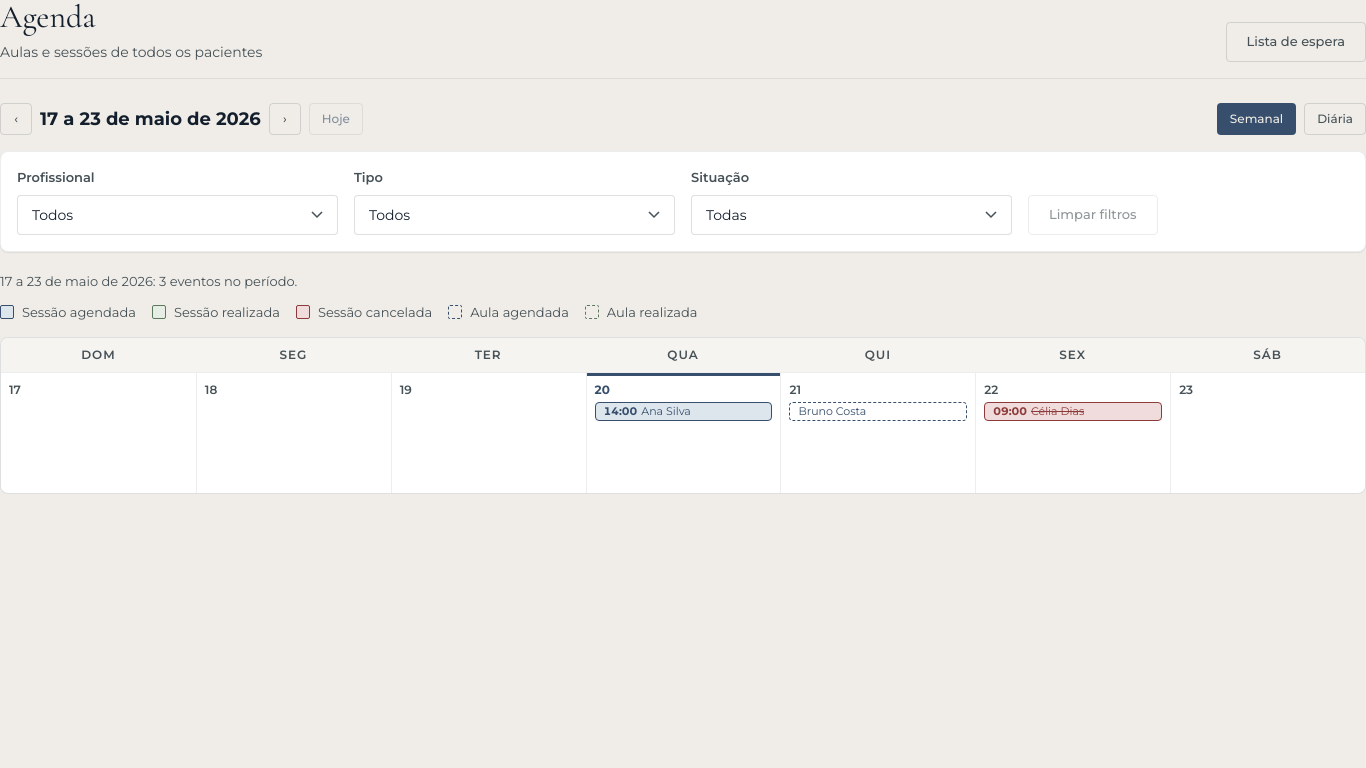
Test: AgendaComponent › detalhe e ações rápidas › aviso da lista de espera › should name the interested patients in the confirmation
The image size is (1366, 768).
Click the button with class "evento" showing "14:00 Ana Silva": (684,412) [595,402,772,421]
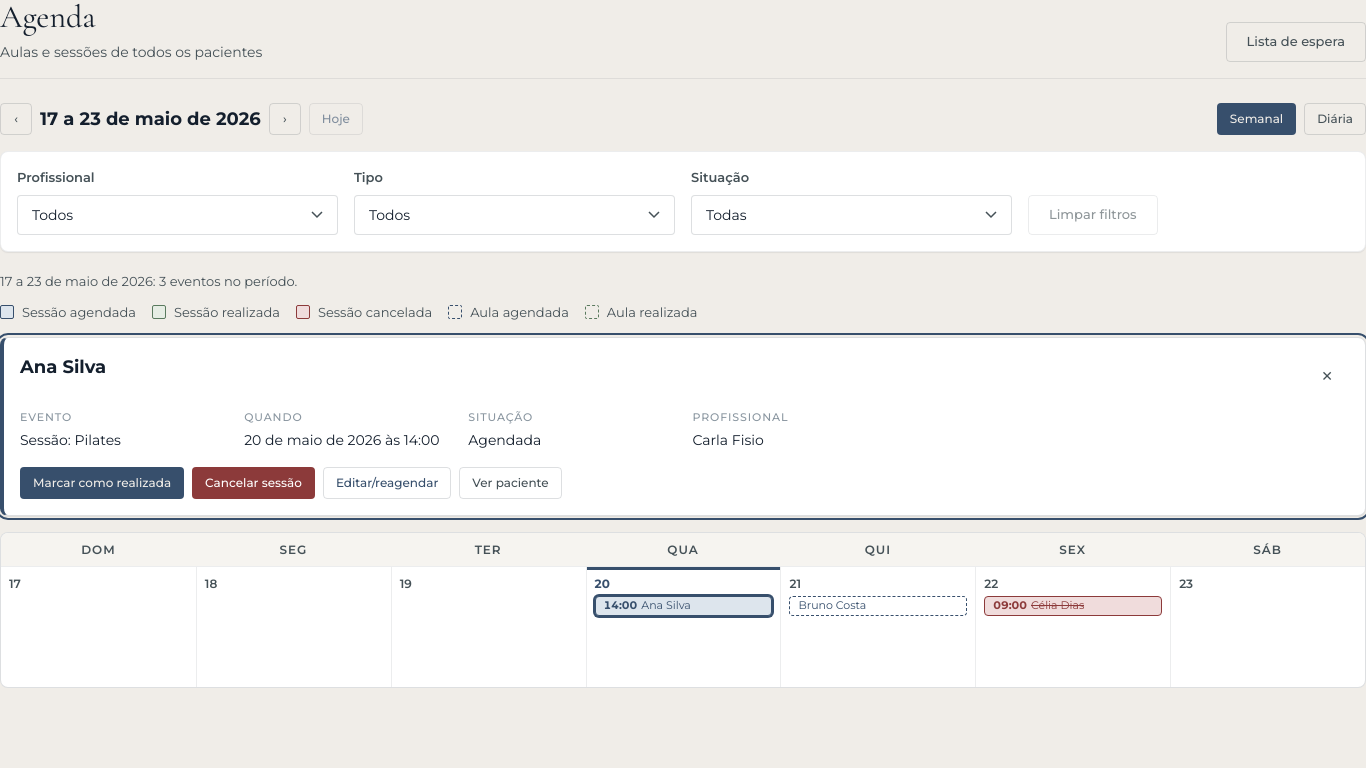
Click the button with class "btn-danger": (254,483) [192,467,315,499]
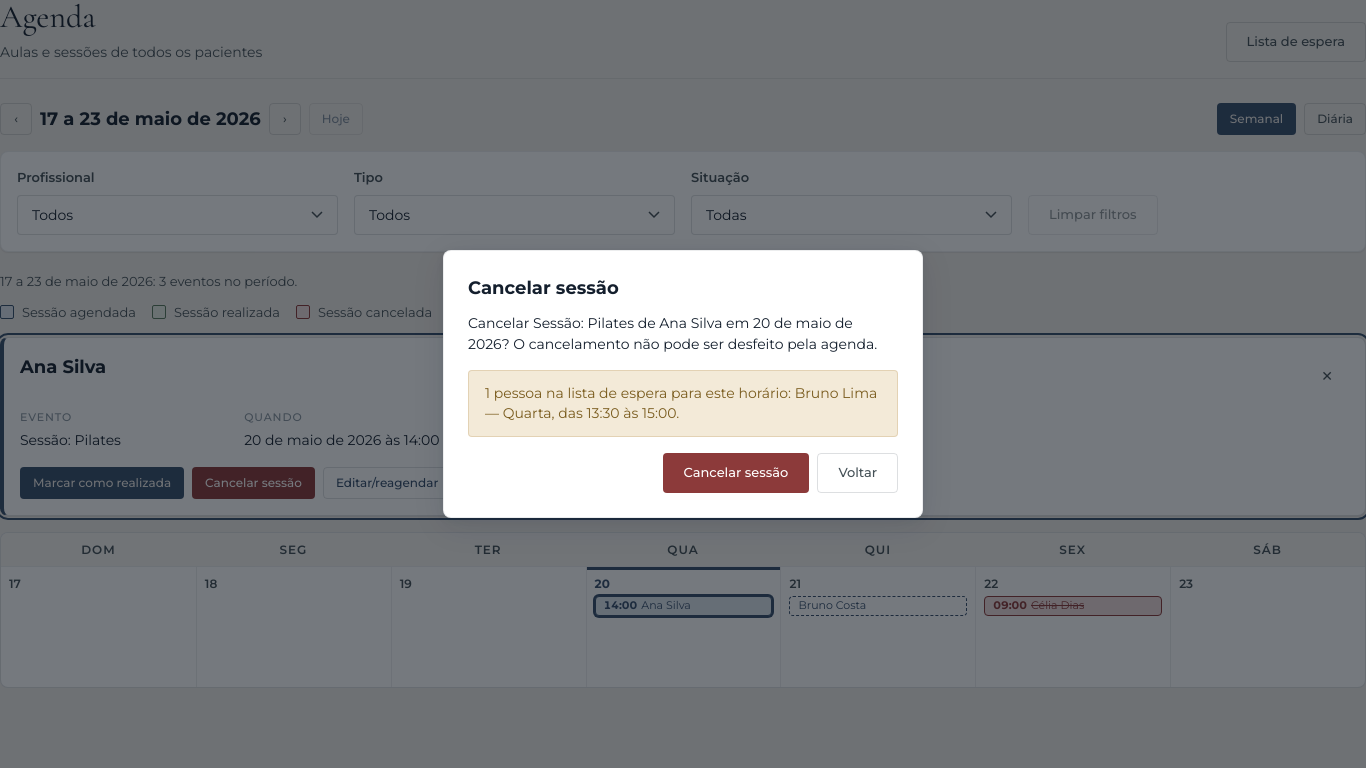
Expected: the text with class "alert-warning" shows "1 pessoa na lista de espera para este horário: Bruno Lima — Quarta, das 13:30 às 15:00.", [485,384,877,422]
